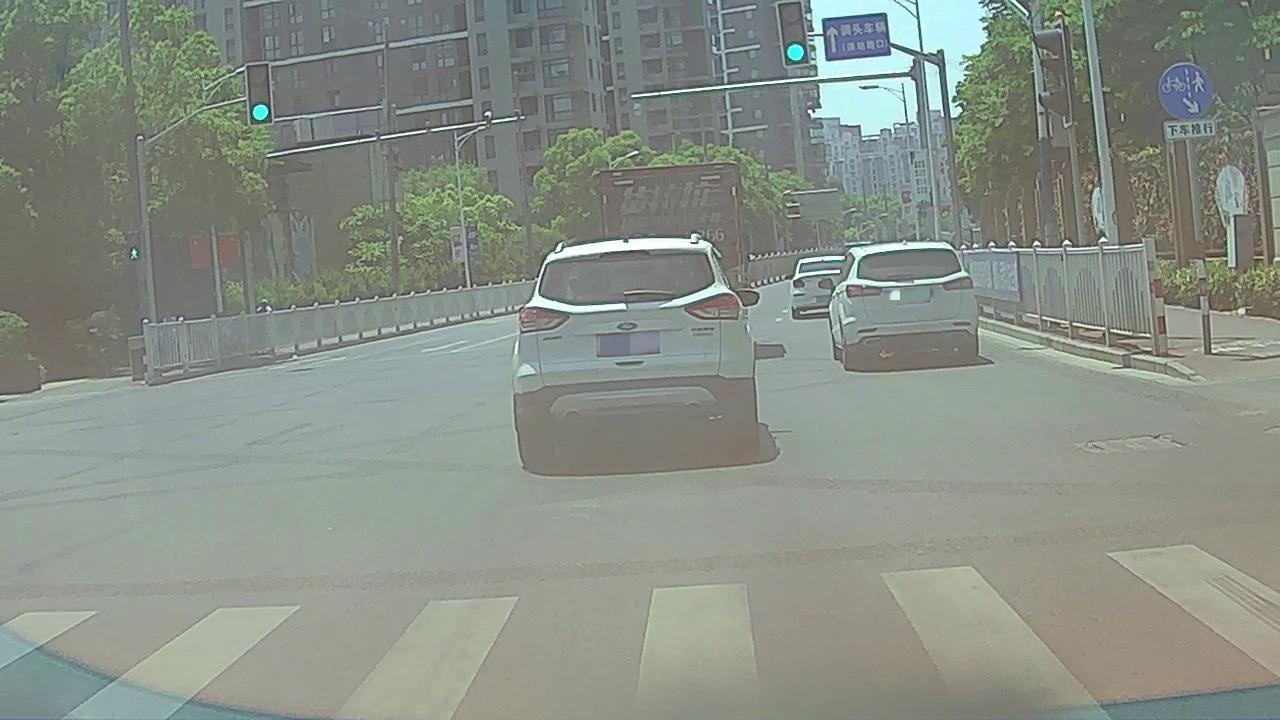traffic_light: (778, 5, 809, 66), (247, 65, 272, 127)
